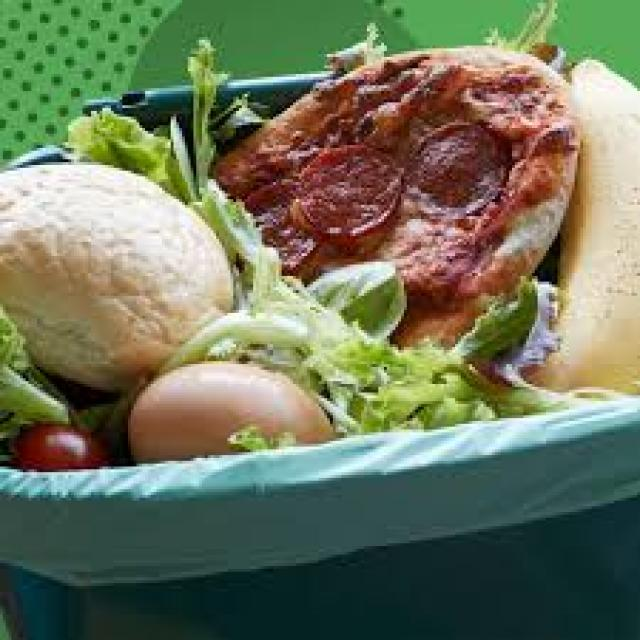organic waste: (208, 40, 578, 350), (202, 185, 495, 435), (0, 156, 230, 386), (518, 57, 637, 398), (125, 358, 336, 469), (159, 34, 259, 199), (443, 273, 558, 381), (153, 299, 304, 364), (461, 358, 637, 412), (57, 105, 179, 179), (0, 307, 65, 440), (3, 395, 128, 464), (298, 259, 406, 333), (480, 0, 566, 68), (20, 421, 111, 466), (318, 20, 389, 68)
